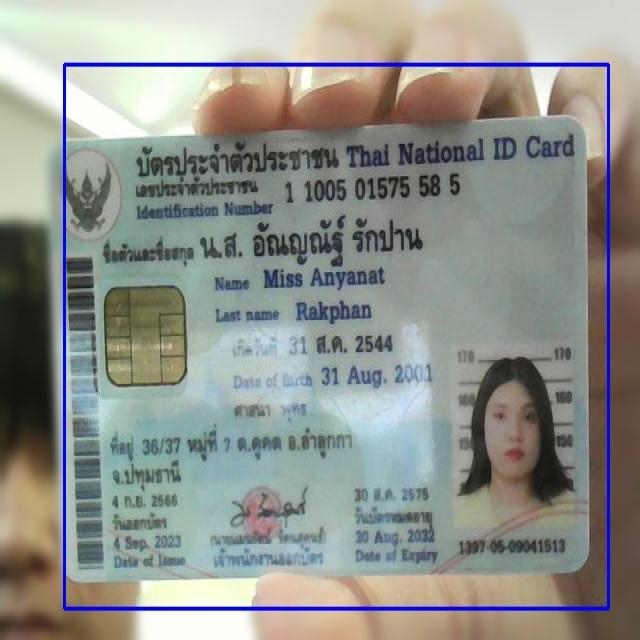Address_th: (107, 421, 366, 495)
Date_of_Birth: (317, 360, 440, 393)
Date_of_Expiry: (350, 525, 443, 548)
Date_of_Issue: (110, 529, 184, 555)
First_Name: (259, 262, 388, 296)
ID_Number: (280, 172, 468, 206)
Image: (452, 342, 576, 536)
Last_Name: (291, 297, 376, 327)
Thai_Name: (196, 213, 430, 269)
